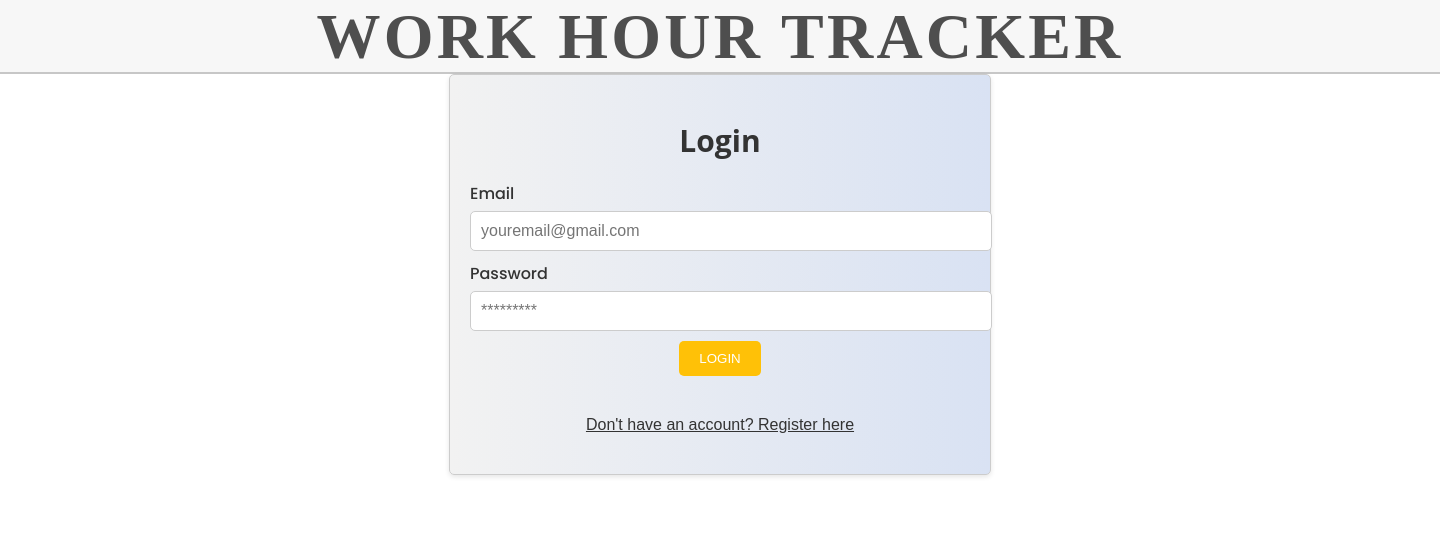
Login › displays error message when login fails
Type "jaspreetbhinder@gmail.com" into the field labelled "Email".
click(731, 231); type("jaspreetbhinder@gmail.com")  # box top-left (470, 211), bottom-right (992, 251)
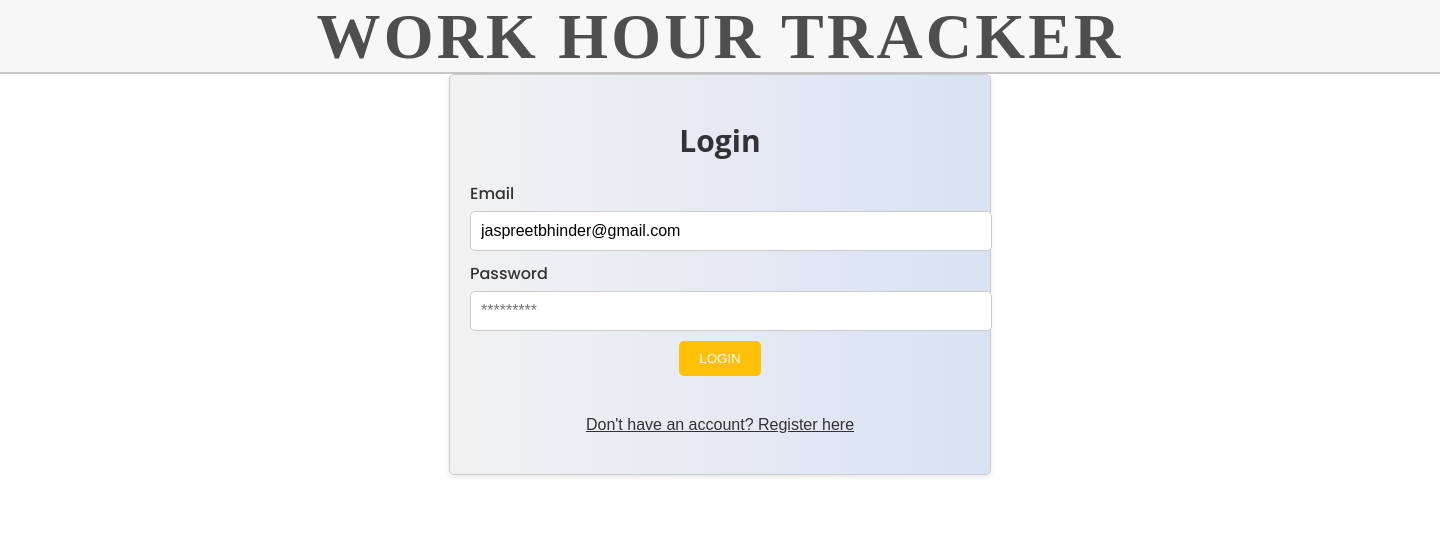
Type "workhard" into the password field labelled "Password".
click(731, 311); type("workhard")  # box top-left (470, 291), bottom-right (992, 331)
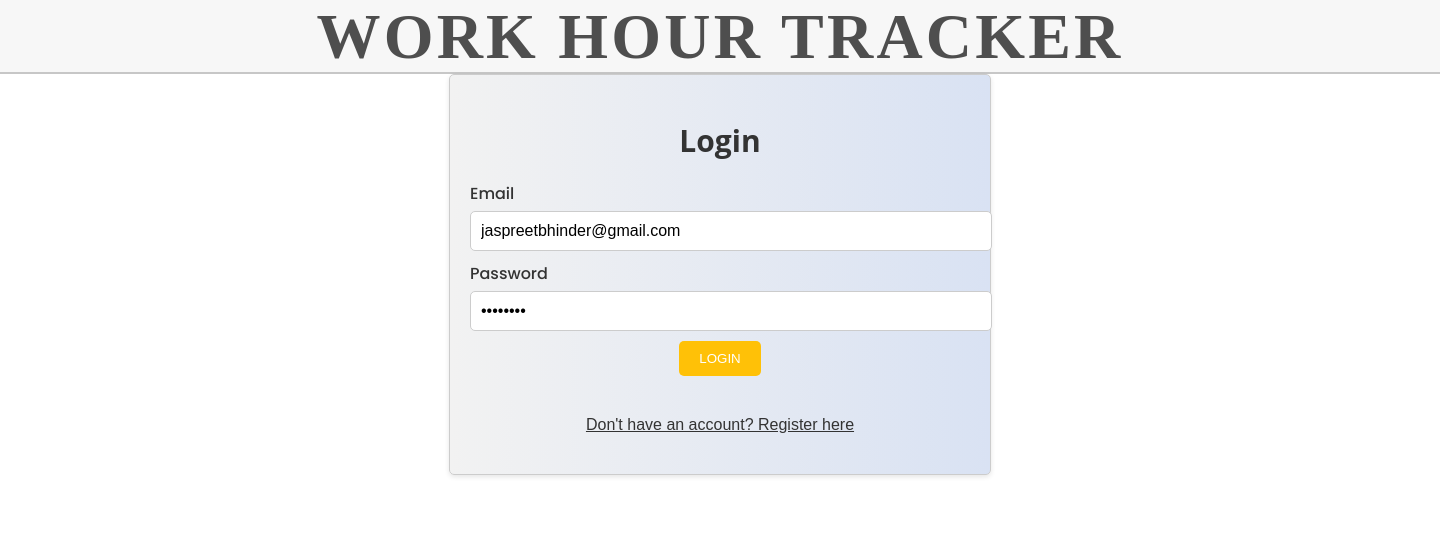
Click the button "LOGIN".
click(720, 358)  # box top-left (679, 341), bottom-right (761, 376)
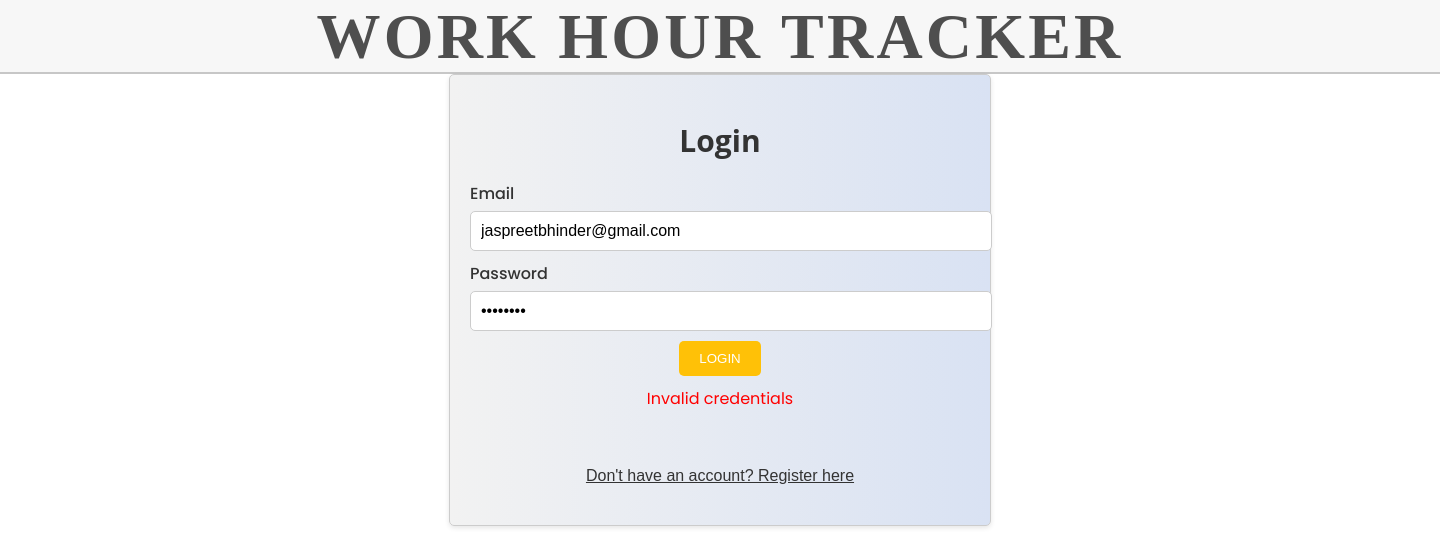
Now the text "Invalid credentials" is shown, box top-left (647, 386), bottom-right (793, 411)
